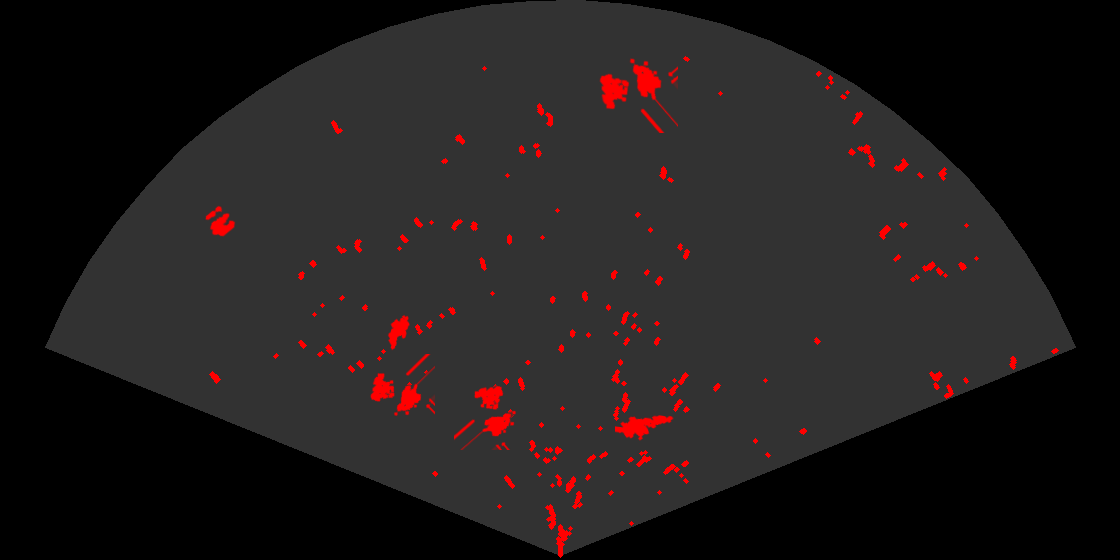AUV: (386, 313, 411, 352)
ball: (204, 204, 237, 238)
cage: (598, 57, 678, 133), (369, 354, 435, 418), (454, 384, 518, 450)
frogman: (615, 414, 674, 442)
